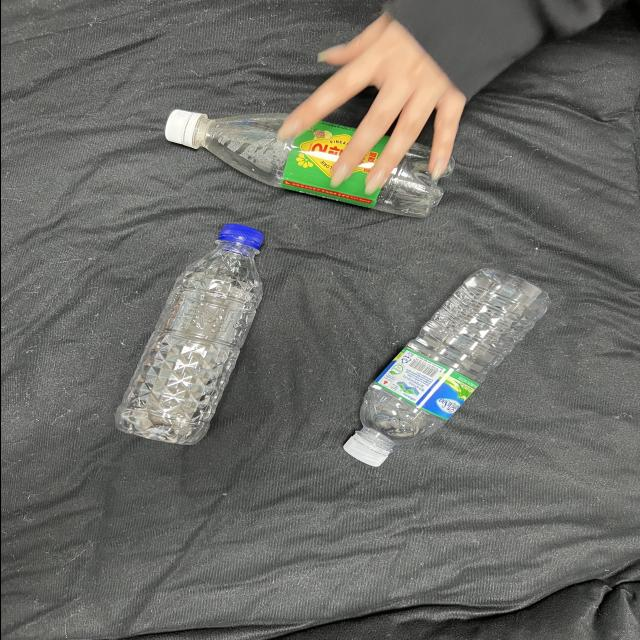寶特瓶: (317, 260, 562, 484), (137, 87, 463, 233), (97, 218, 288, 458)
